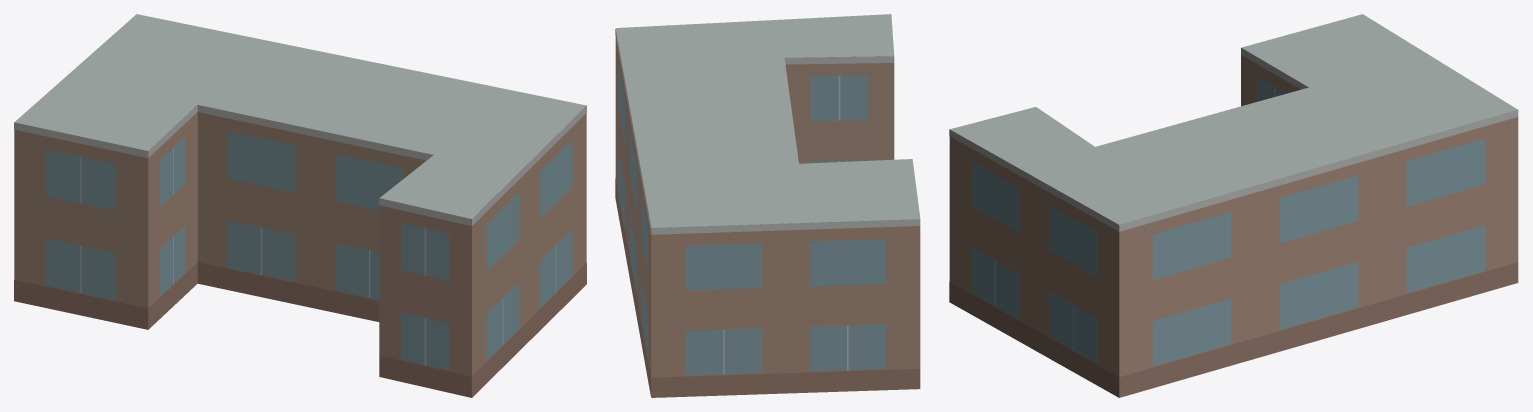
File: survey-upis-32767209.glb
3 renders of one model, left to right at view 1: azimuth 30°, elevation 25°; view 2: azimuth 150°, elevation 25°; view 3: azimuth 270°, elevation 25°, orthographic. The views are drawn at different scales.
Visible parts, largest first — view 1: survey-upis-32767209.tmp; view 2: survey-upis-32767209.tmp; view 3: survey-upis-32767209.tmp.
Boxes of the visible parts, left/top/right/bottom form: survey-upis-32767209.tmp: left=14, top=14, right=586, bottom=397; survey-upis-32767209.tmp: left=615, top=14, right=920, bottom=397; survey-upis-32767209.tmp: left=949, top=14, right=1518, bottom=397.
Bounding box in the file's own units: 15.96 × 6.1 × 18.19.
